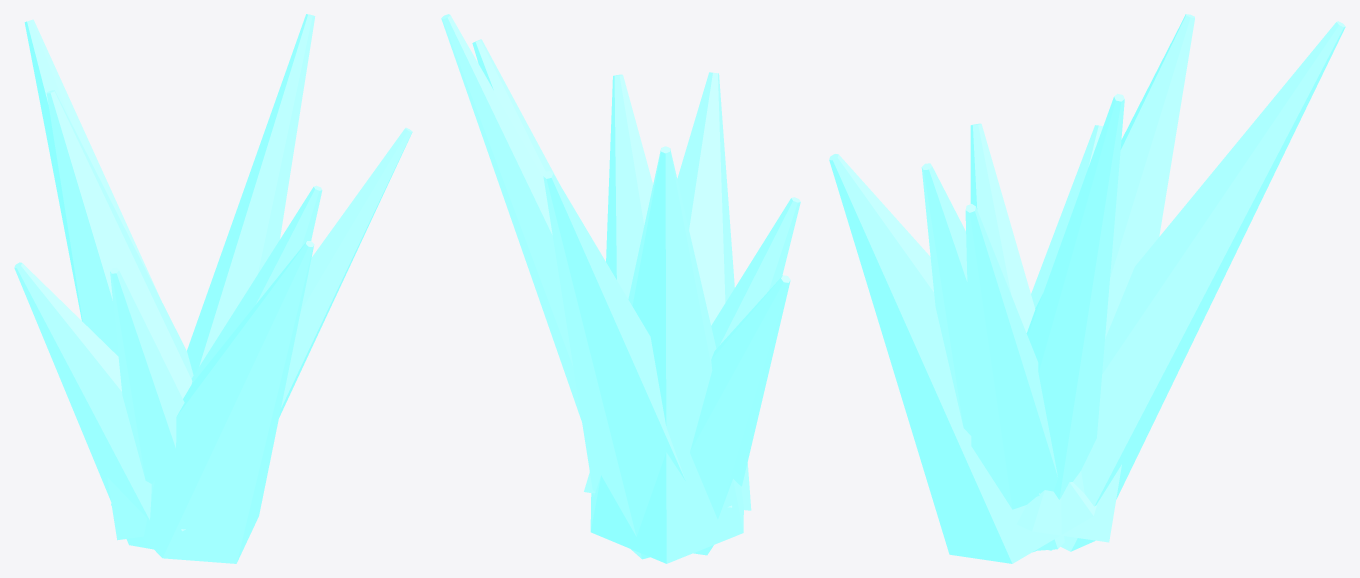
File: VFX_CrystalShards_House_v01.glb
The picture shows the model from 3 angles, left to right: view 1: azimuth 30°, elevation 25°; view 2: azimuth 150°, elevation 25°; view 3: azimuth 270°, elevation 25°; orthographic projection. The views are drawn at different scales.
Visible parts, largest first — view 1: MESH_CrystalShard_06, MESH_CrystalShard_03, MESH_CrystalShard_04, MESH_CrystalShard_05, MESH_CrystalShard_01, MESH_CrystalShard_07, MESH_CrystalShard_08, MESH_CrystalShard_02; view 2: MESH_CrystalShard_03, MESH_CrystalShard_08, MESH_CrystalShard_05, MESH_CrystalShard_04, MESH_CrystalShard_06, MESH_CrystalShard_02, MESH_CrystalShard_01, MESH_CrystalShard_07; view 3: MESH_CrystalShard_08, MESH_CrystalShard_06, MESH_CrystalShard_04, MESH_CrystalShard_07, MESH_CrystalShard_03, MESH_CrystalShard_02, MESH_CrystalShard_01, MESH_CrystalShard_05.
Boxes of the visible parts, x1=… form: MESH_CrystalShard_06: x1=111, y1=241, x2=314, y2=563; MESH_CrystalShard_03: x1=46, y1=90, x2=193, y2=540; MESH_CrystalShard_04: x1=187, y1=14, x2=315, y2=374; MESH_CrystalShard_05: x1=14, y1=262, x2=153, y2=549; MESH_CrystalShard_01: x1=110, y1=267, x2=184, y2=483; MESH_CrystalShard_07: x1=279, y1=127, x2=412, y2=417; MESH_CrystalShard_08: x1=24, y1=19, x2=161, y2=321; MESH_CrystalShard_02: x1=191, y1=185, x2=322, y2=383; MESH_CrystalShard_03: x1=590, y1=146, x2=743, y2=563; MESH_CrystalShard_08: x1=543, y1=171, x2=685, y2=559; MESH_CrystalShard_05: x1=690, y1=275, x2=790, y2=555; MESH_CrystalShard_04: x1=441, y1=14, x2=581, y2=421; MESH_CrystalShard_06: x1=584, y1=72, x2=751, y2=510; MESH_CrystalShard_02: x1=606, y1=74, x2=652, y2=298; MESH_CrystalShard_01: x1=711, y1=197, x2=800, y2=348; MESH_CrystalShard_07: x1=472, y1=39, x2=559, y2=183; MESH_CrystalShard_08: x1=1060, y1=21, x2=1345, y2=551; MESH_CrystalShard_06: x1=829, y1=154, x2=1096, y2=563; MESH_CrystalShard_04: x1=1028, y1=93, x2=1124, y2=550; MESH_CrystalShard_07: x1=965, y1=204, x2=1057, y2=552; MESH_CrystalShard_03: x1=1016, y1=14, x2=1194, y2=542; MESH_CrystalShard_02: x1=921, y1=163, x2=1064, y2=550; MESH_CrystalShard_01: x1=970, y1=123, x2=1035, y2=332; MESH_CrystalShard_05: x1=1031, y1=125, x2=1102, y2=308.
Size of the model in its own units: 0.1676 by 0.2161 by 0.1864.
